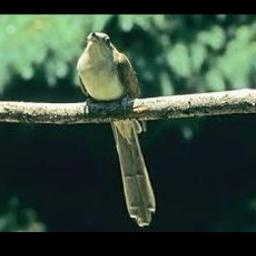Cuckoo: (76, 32, 156, 226)
